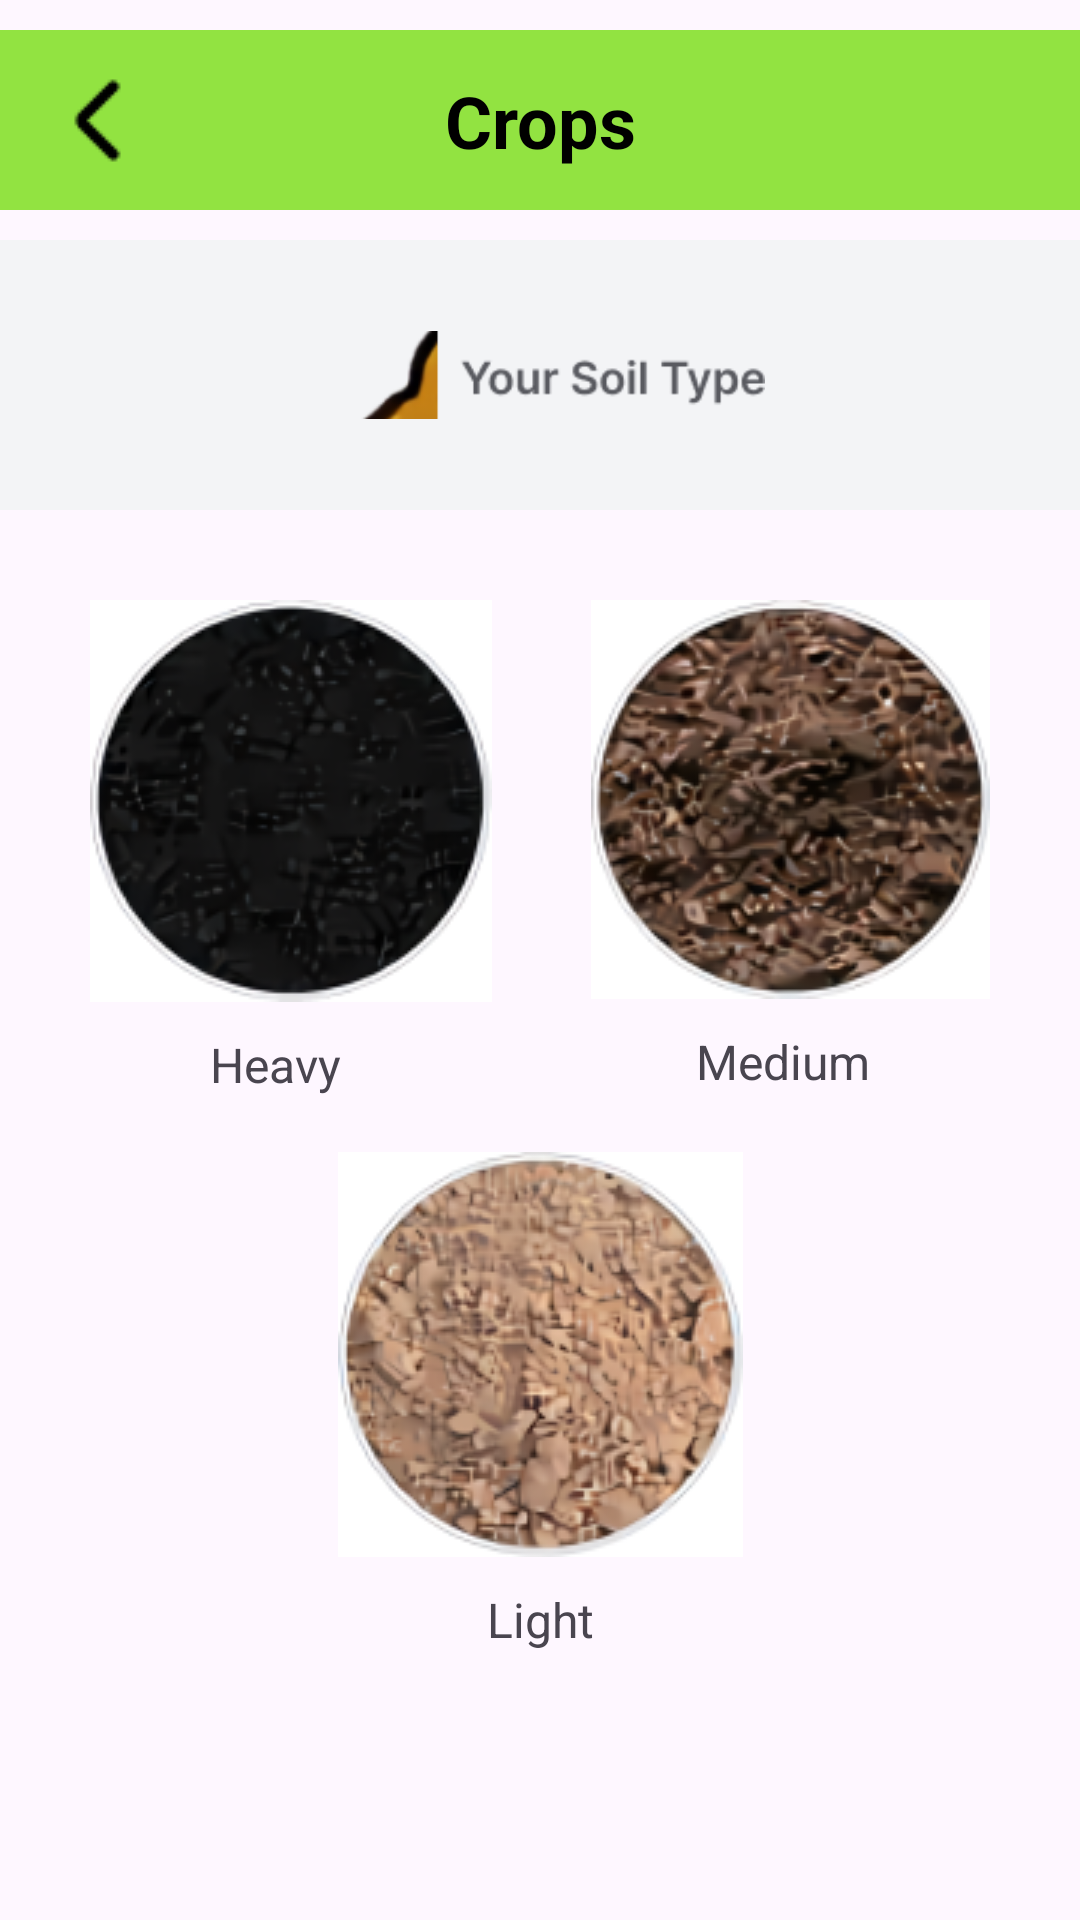

Where to tap for icons on this 1080×1920 app screen, as (x=x, y=y):
back arrow: (x=97, y=120)
